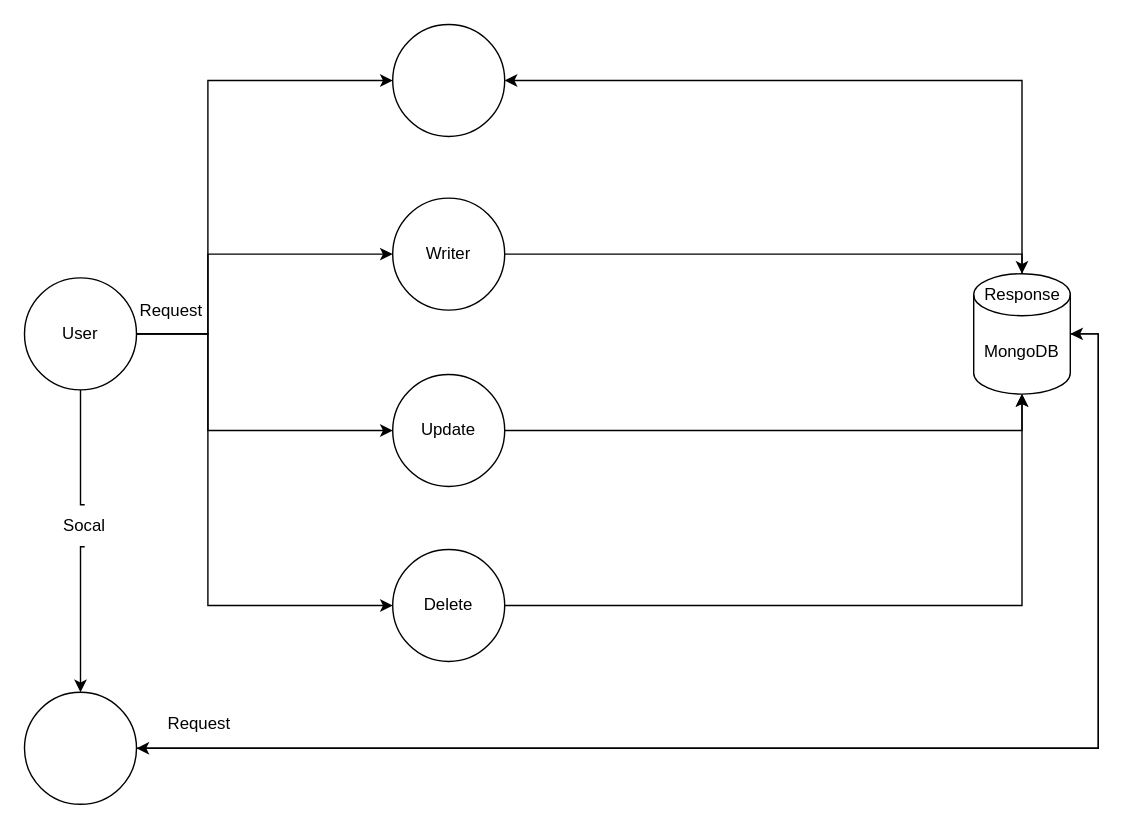
The diagram is 1134 pixels wide and 829 high, and some of its shapes have lost their labels. Each missing label, with the centre of its shape:
"Alert" belongs at (79,747).
"Select" belongs at (448,79).
